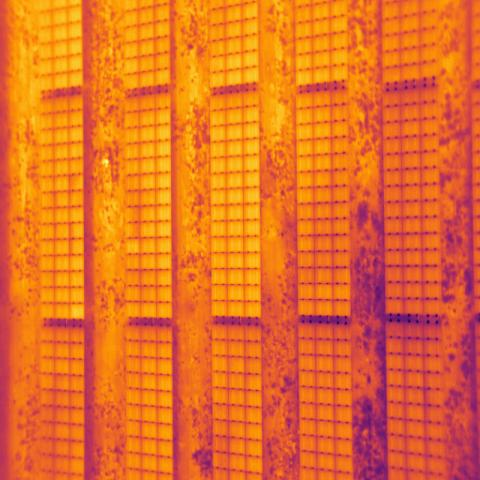fault: (70, 303, 84, 320)
